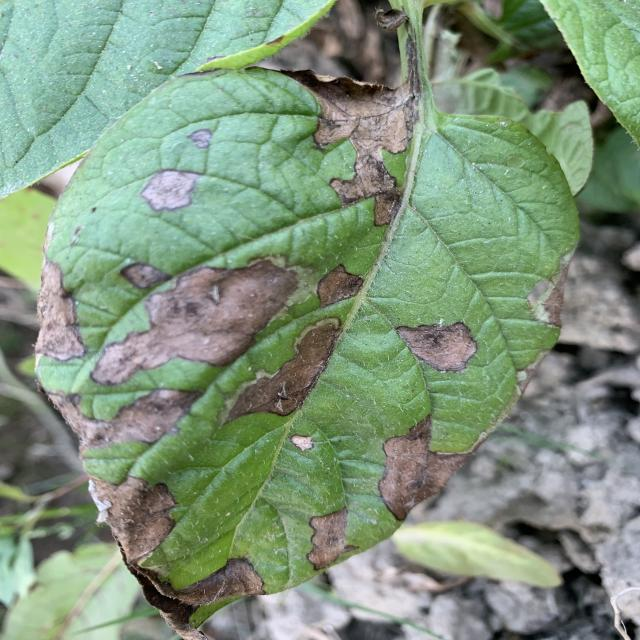lateblight: (90, 476, 265, 640), (92, 260, 297, 385), (283, 70, 417, 226), (48, 389, 202, 454), (378, 415, 470, 520), (267, 322, 340, 415), (35, 261, 87, 361), (397, 322, 477, 372), (527, 252, 573, 326), (307, 508, 357, 570), (140, 170, 200, 211), (317, 265, 363, 308), (290, 435, 313, 450)
